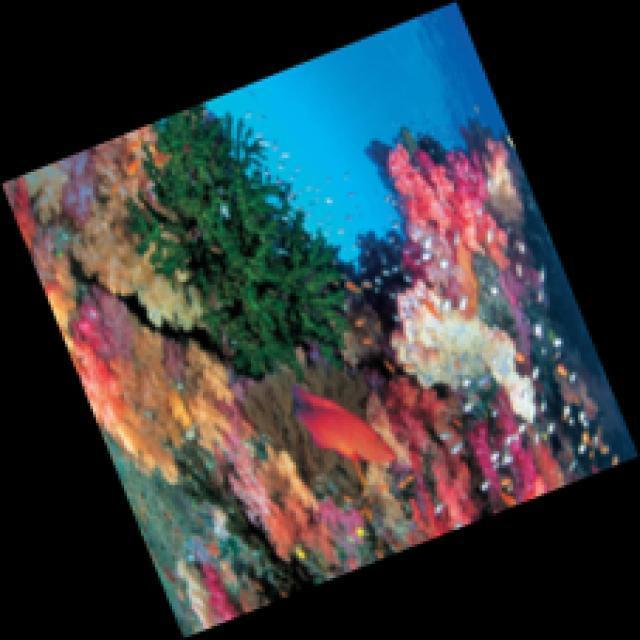Bleached: (408, 296, 539, 424)
Healthy: (13, 131, 234, 471), (133, 101, 351, 372), (386, 381, 569, 550), (387, 141, 510, 280)
